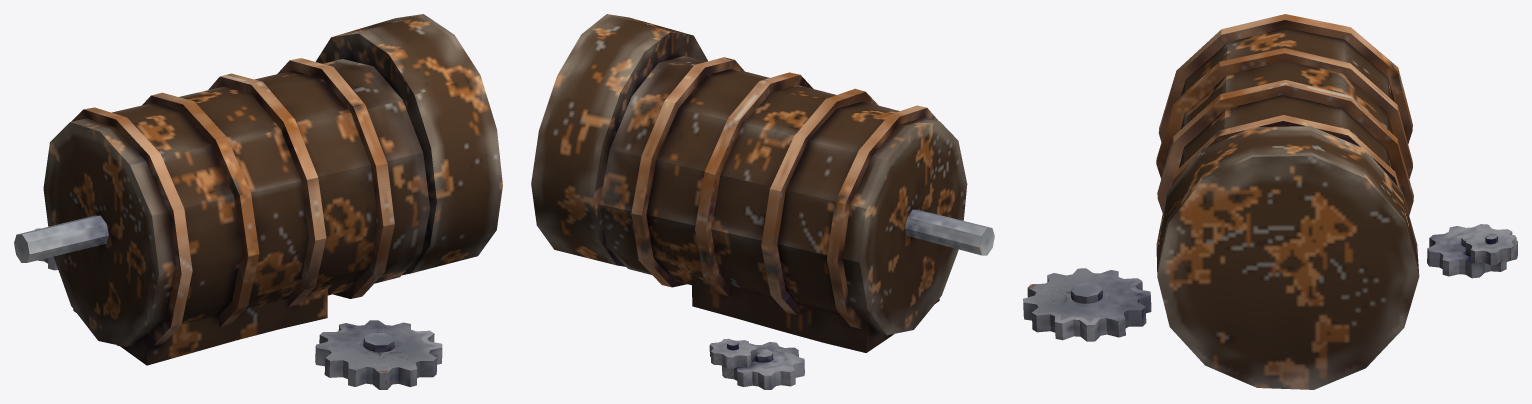
Rendered from RockGearbox.glb.
3 views of the same model, side by side, from view 1: azimuth 30°, elevation 25°; view 2: azimuth 150°, elevation 25°; view 3: azimuth 270°, elevation 25° (orthographic). The views are drawn at different scales.
Visible parts, largest first — view 1: Casing, Ribs, Gears; view 2: Casing, Ribs, Gears; view 3: Casing, Ribs, Gears.
Part boxes in pixels (box(x1,y1,x2,y2)): Casing: box(43, 14, 502, 365); Ribs: box(71, 58, 394, 345); Gears: box(14, 215, 442, 389); Casing: box(531, 14, 967, 352); Ribs: box(631, 57, 938, 329); Gears: box(709, 209, 994, 389); Casing: box(1156, 28, 1419, 389); Ribs: box(1156, 14, 1413, 215); Gears: box(1023, 224, 1517, 341).
Bounding box in the file's own units: 3.73 × 2.08 × 3.75.
Materials: 3 (3 with a texture image).
